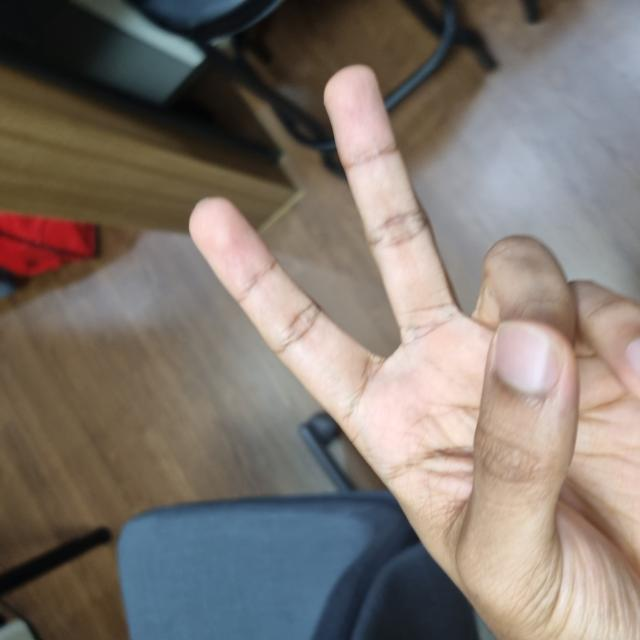Scissors: (14, 188, 573, 639)
